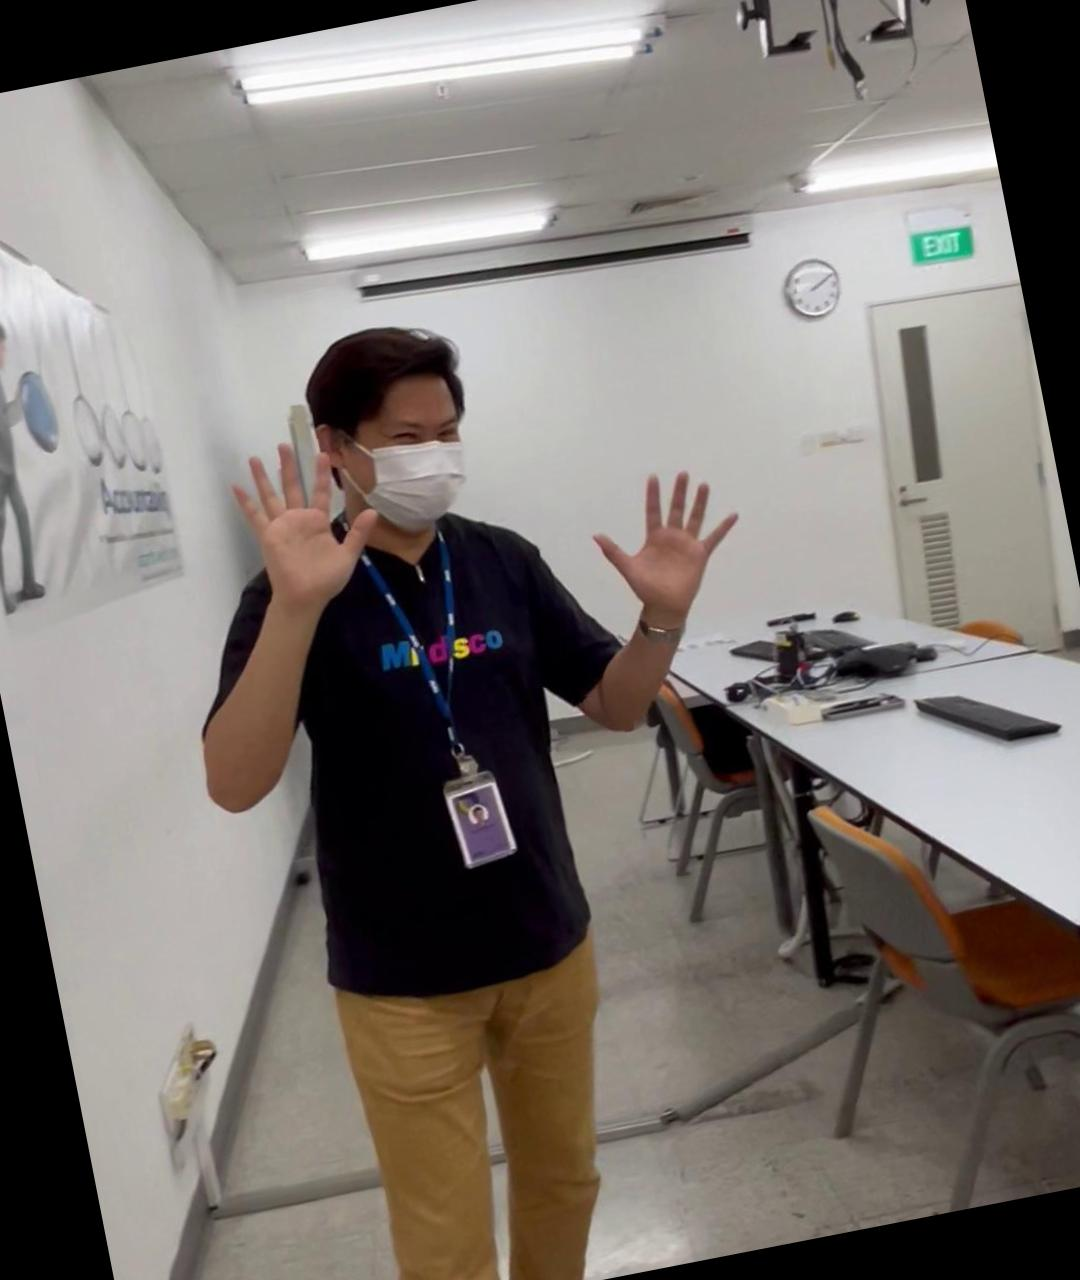No-gloves: (213, 418, 385, 607), (579, 452, 755, 619)
